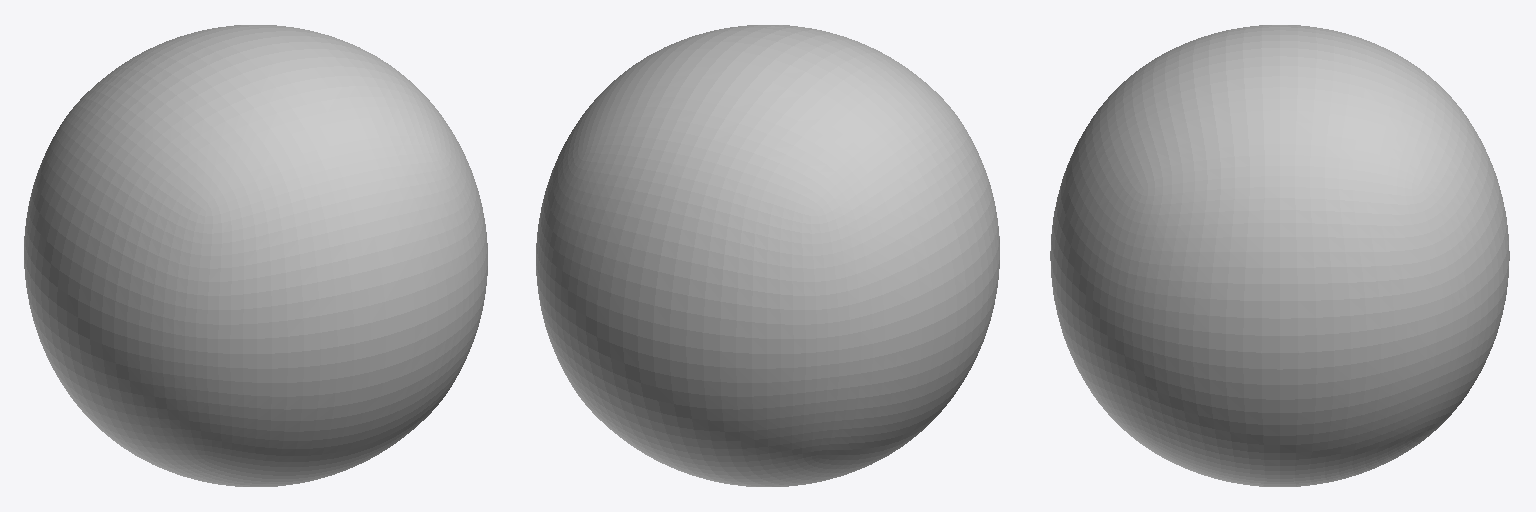
The model's file is bola.obj.
3 views of the same model, side by side, from view 1: azimuth 30°, elevation 25°; view 2: azimuth 150°, elevation 25°; view 3: azimuth 270°, elevation 25° (orthographic).
Visible parts, largest first — view 1: 10541_volleyball_v1; view 2: 10541_volleyball_v1; view 3: 10541_volleyball_v1.
Part boxes in pixels (bbox=[...]): 10541_volleyball_v1: bbox=[24, 25, 487, 486]; 10541_volleyball_v1: bbox=[536, 25, 999, 486]; 10541_volleyball_v1: bbox=[1050, 25, 1509, 486].
Size of the model in its own units: 18.11 by 18.11 by 18.11.